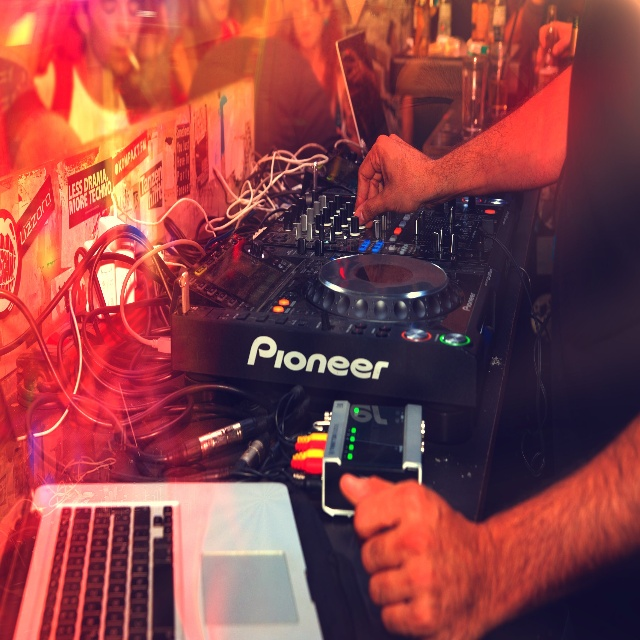Sin_guantes: (334, 462, 508, 640), (353, 135, 434, 217)
